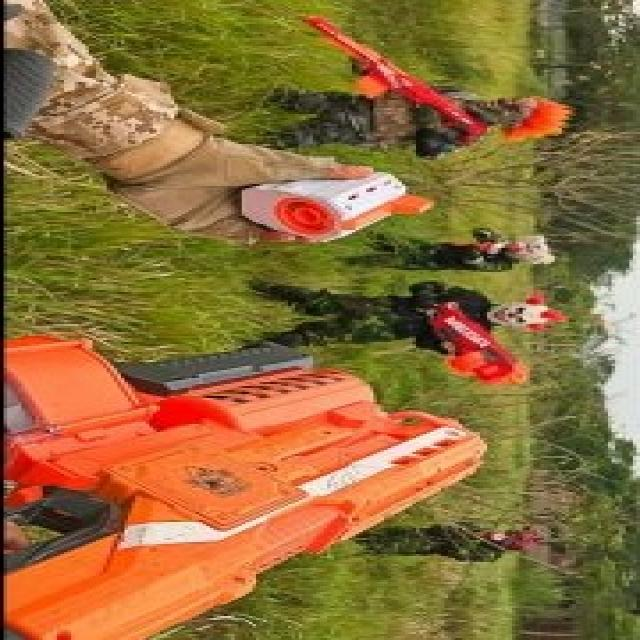Nerf gun: (9, 324, 496, 640), (300, 13, 496, 151), (418, 294, 528, 394), (474, 235, 514, 257)
